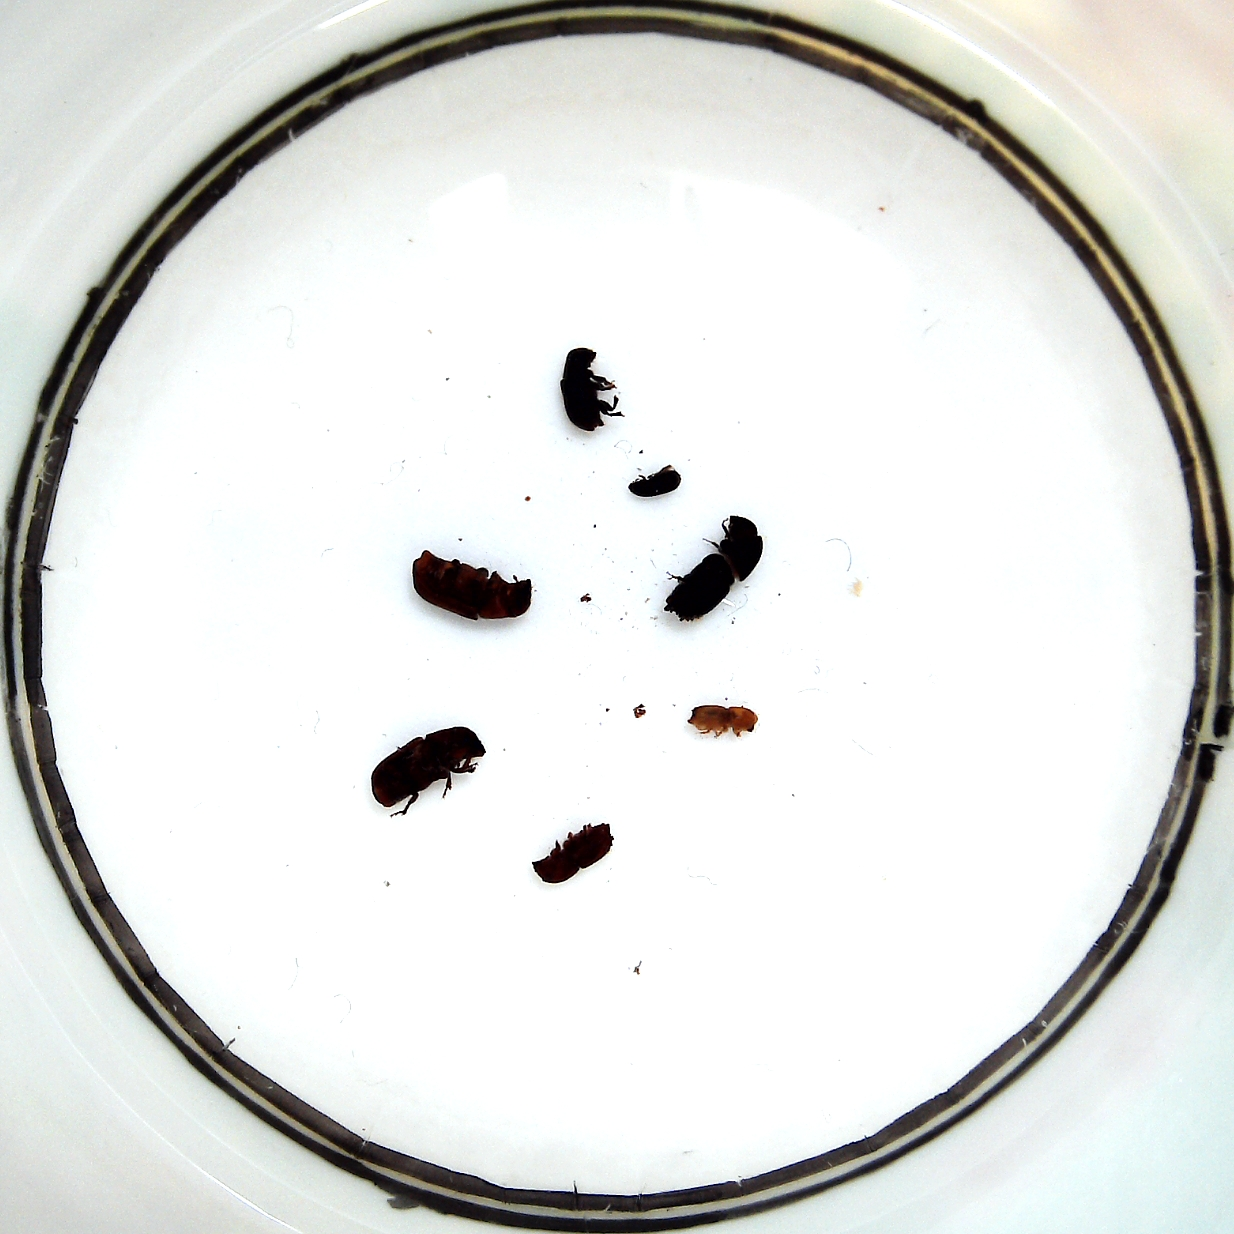Boerner: (663, 515, 763, 622)
Leconte: (371, 727, 485, 808), (412, 550, 532, 622)
acuminatus: (628, 466, 683, 496)
armandi: (560, 348, 605, 432)
coleoptera: (687, 704, 758, 733)
linnaeus: (532, 822, 614, 884)
